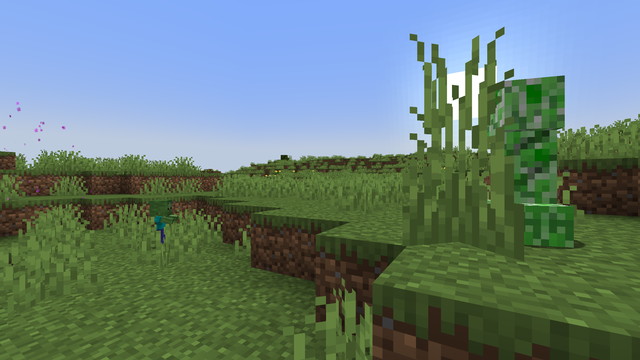creepers: (487, 62, 568, 246)
zombies: (151, 205, 170, 247)
